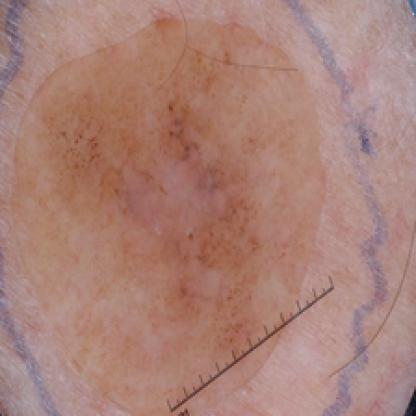malignant: (39, 41, 308, 278)
